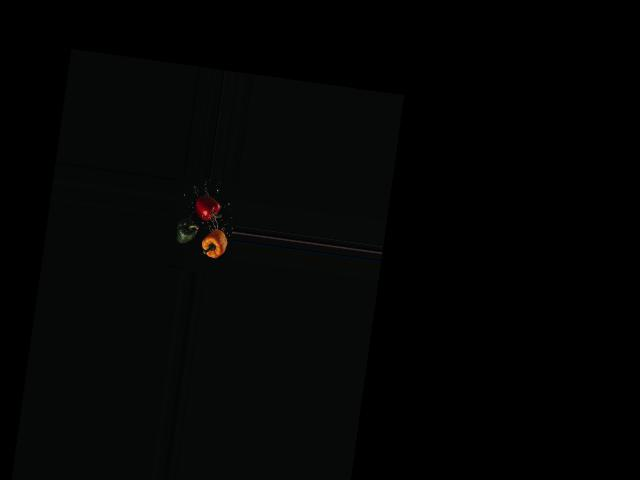bell_pepper: (188, 193, 228, 227)
